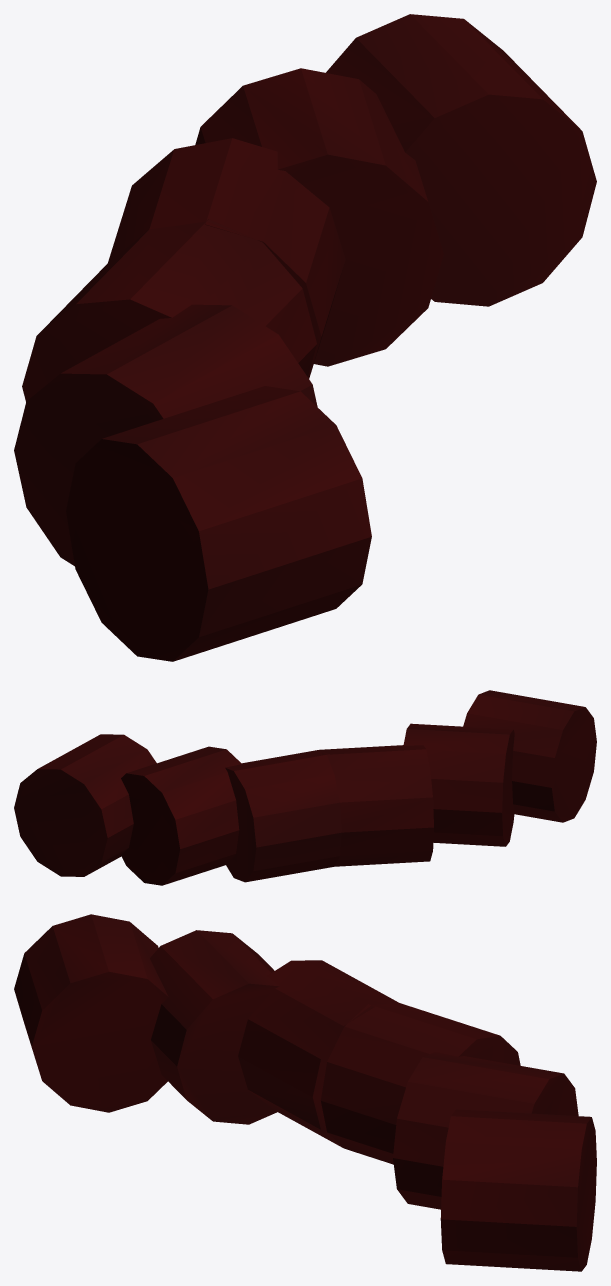
The model's file is pipe_elbow.glb.
The picture shows the model from 3 angles, top to bottom: view 1: azimuth 30°, elevation 25°; view 2: azimuth 150°, elevation 25°; view 3: azimuth 270°, elevation 25°; orthographic projection. The views are drawn at different scales.
Parts seen in each view (by area): view 1: pipe_elbow; view 2: pipe_elbow; view 3: pipe_elbow.
Part boxes in pixels (box(x1,y1,x2,y2)): pipe_elbow: box(14, 14, 596, 661); pipe_elbow: box(14, 690, 596, 885); pipe_elbow: box(14, 914, 596, 1271).
Size of what is drawn, in the model's own units: 0.5993 by 0.16 by 0.5993.
